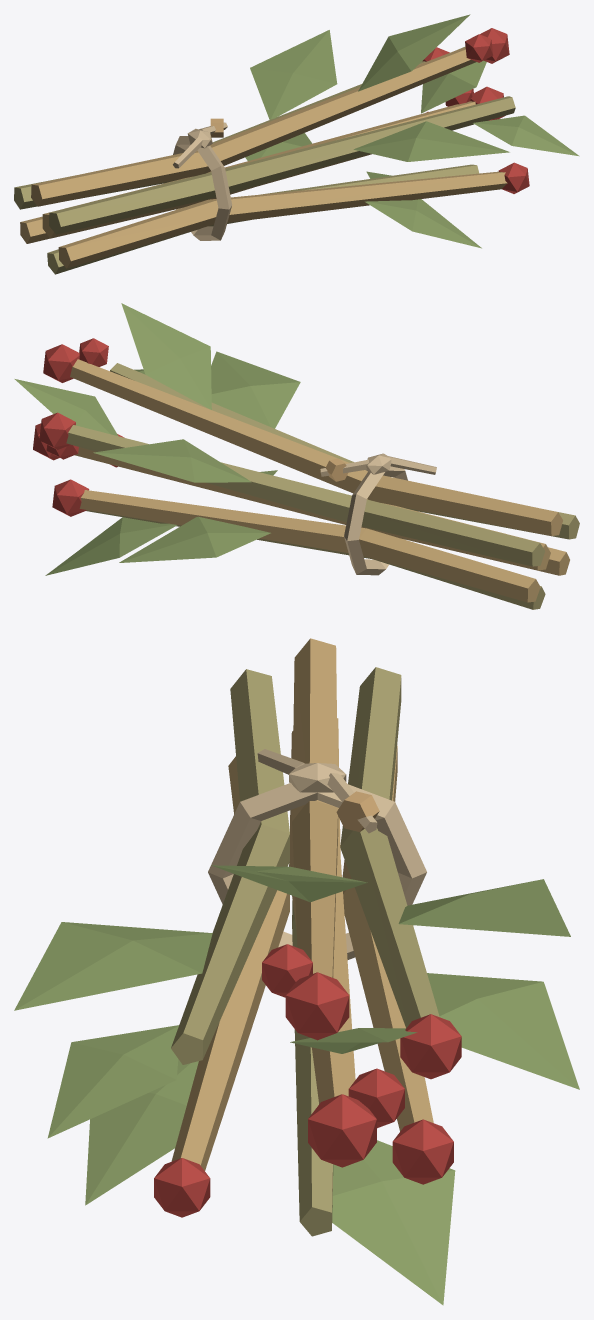
File: it-plant.glb
3 views of the same model, one above another, from view 1: azimuth 30°, elevation 25°; view 2: azimuth 150°, elevation 25°; view 3: azimuth 270°, elevation 25° (orthographic). The views are drawn at different scales.
Parts seen in each view (by area): view 1: stalk_05, stalk_03, stalk_04, leaf_01, leaf_03, leaf_02, leaf_04, leaf_08, stalk_01, stalk_06, twine_band, leaf_07 (+7 smaller); view 2: stalk_03, stalk_07, stalk_02, leaf_02, leaf_03, leaf_06, leaf_01, leaf_05, stalk_01, leaf_07, stalk_04, twine_band (+8 smaller); view 3: stalk_04, stalk_02, leaf_05, stalk_03, leaf_03, leaf_06, stalk_05, leaf_08, leaf_04, twine_band, leaf_01, stalk_07 (+13 smaller).
Boxes of the visible parts, bbox=[...] form: stalk_05: bbox=[58, 171, 507, 268]; stalk_03: bbox=[31, 47, 475, 206]; stalk_04: bbox=[49, 96, 515, 234]; leaf_01: bbox=[250, 30, 337, 119]; leaf_03: bbox=[353, 121, 509, 161]; leaf_02: bbox=[358, 14, 470, 91]; leaf_04: bbox=[365, 199, 481, 248]; leaf_08: bbox=[473, 115, 579, 156]; stalk_01: bbox=[42, 101, 475, 238]; stalk_06: bbox=[47, 164, 479, 274]; twine_band: bbox=[173, 136, 232, 240]; leaf_07: bbox=[421, 46, 486, 113]; stalk_03: bbox=[70, 359, 562, 535]; stalk_07: bbox=[79, 490, 540, 602]; stalk_02: bbox=[66, 425, 544, 566]; leaf_02: bbox=[121, 303, 211, 409]; leaf_03: bbox=[211, 351, 300, 428]; leaf_06: bbox=[119, 516, 270, 562]; leaf_01: bbox=[93, 439, 251, 482]; leaf_05: bbox=[45, 517, 177, 575]; stalk_01: bbox=[75, 447, 550, 570]; leaf_07: bbox=[14, 379, 118, 436]; stalk_04: bbox=[110, 363, 579, 539]; twine_band: bbox=[344, 466, 407, 575]; stalk_04: bbox=[171, 669, 289, 1064]; stalk_02: bbox=[340, 667, 439, 1028]; leaf_05: bbox=[332, 1140, 455, 1305]; stalk_03: bbox=[292, 638, 338, 977]; leaf_03: bbox=[14, 922, 212, 1010]; leaf_06: bbox=[427, 973, 579, 1089]; stalk_05: bbox=[171, 756, 289, 1170]; leaf_08: bbox=[47, 1025, 178, 1138]; leaf_04: bbox=[85, 1059, 198, 1205]; twine_band: bbox=[208, 783, 426, 959]; leaf_01: bbox=[398, 879, 570, 936]; stalk_07: bbox=[342, 745, 433, 1131].
Size of what is drawn, in the model's own units: 0.3497 by 0.1525 by 0.1883.
